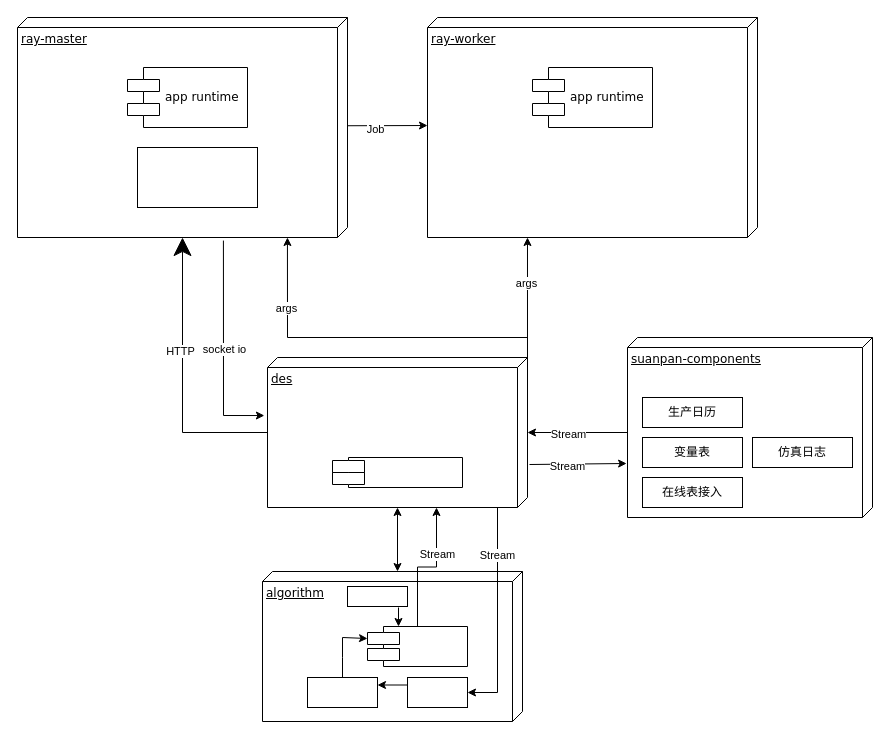
This 890x739 diagram has some shape labels left out. Here are the shapes that lost their labels. From the top down, the centre of each, then its label:
pixel 197 177: HTTP Server
pixel 397 472: socket server
pixel 377 596: 优化定义
pixel 417 646: 优化
pixel 342 692: 终止条件
pixel 437 692: 结果输出
